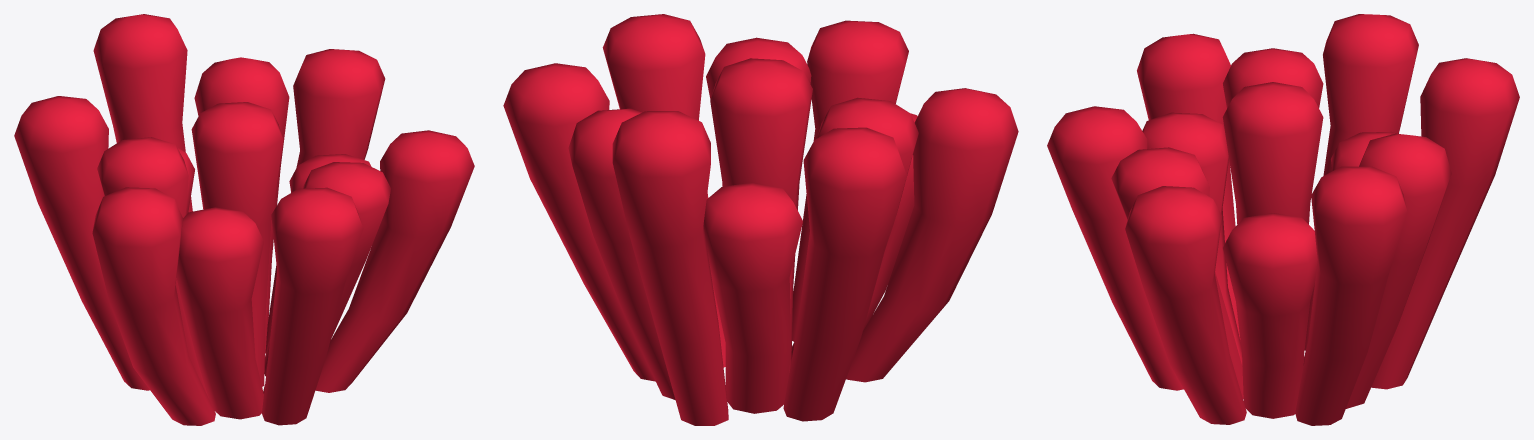
Rendered from Sea_plant_3.002.fbx.
The picture shows the model from 3 angles, left to right: view 1: azimuth 30°, elevation 25°; view 2: azimuth 150°, elevation 25°; view 3: azimuth 270°, elevation 25°; orthographic projection. The views are drawn at different scales.
Parts seen in each view (by area): view 1: Sea_plant_3.002; view 2: Sea_plant_3.002; view 3: Sea_plant_3.002.
Part boxes in pixels (bbox=[...]): Sea_plant_3.002: bbox=[14, 14, 474, 425]; Sea_plant_3.002: bbox=[503, 14, 1018, 425]; Sea_plant_3.002: bbox=[1047, 14, 1519, 425].
Bounding box in the file's own units: 0.8989 × 0.6982 × 0.9557.
